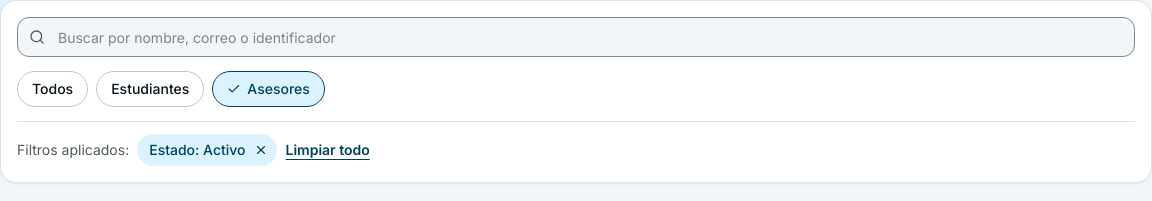
Test case: FilterBar › "Limpiar todo" solo aparece con más de un filtro activo y descarta el borrador del buscador
In the field named "Buscar usuarios": point(576, 37) [17, 17, 1135, 57], type "ana"
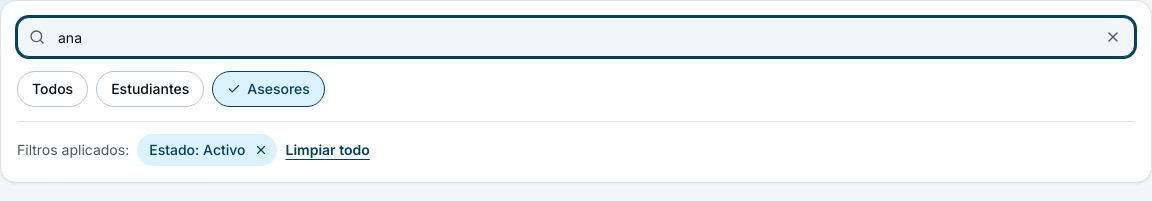
Click the button "Limpiar todo": point(328, 150) [286, 140, 370, 160]
Wait 300 ms
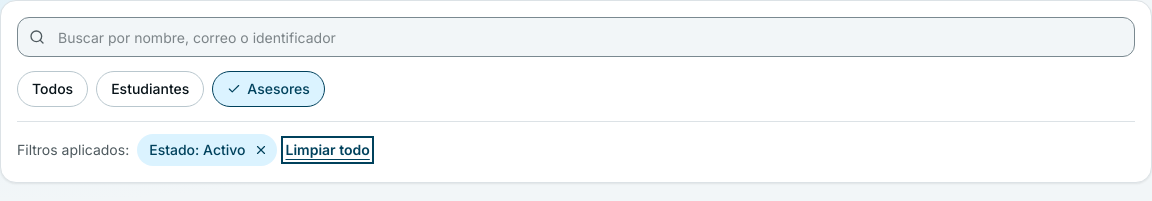
Result: the field named "Buscar usuarios" is empty at [17, 17, 1135, 57]
